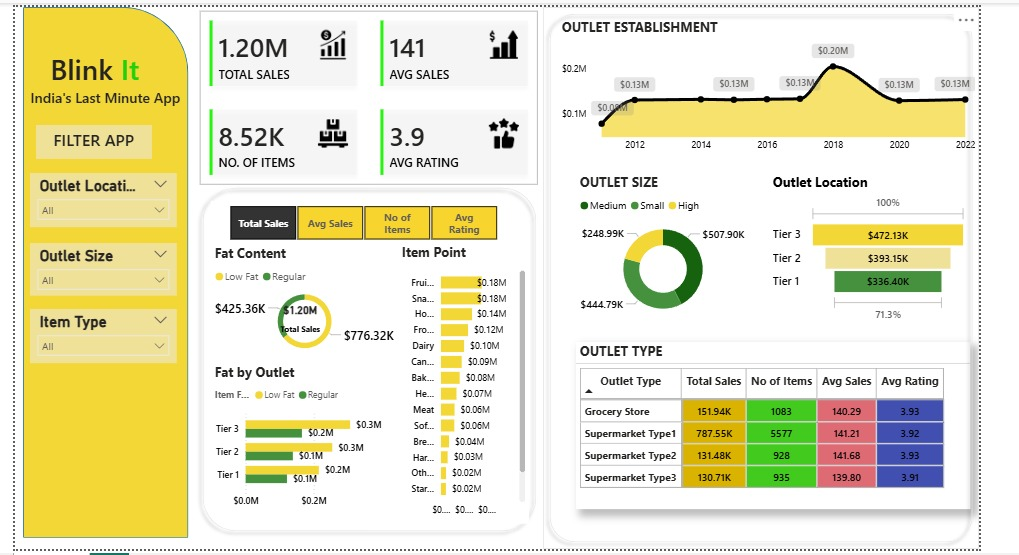

The page's visual inventory and layout, read from the dashboard file:
{"tool":"powerbi","page":{"name":"Page 1","canvas":[1280,720],"ordinal":0},"visuals":[{"type":"shape","box":[10.2,0,219.5,705.4],"z":0},{"type":"cardVisual","fields":{"Data":["BlinkIT Grocery Data.total sales","BlinkIT Grocery Data.avg sales","BlinkIT Grocery Data.no of items","BlinkIT Grocery Data.avg rating"]},"box":[240,0,461,241.5],"z":1000},{"type":"textbox","box":[10.2,51.2,190.2,68.8],"z":2000},{"type":"textbox","box":[0,102.4,240,54.1],"z":3000},{"type":"textbox","box":[27.8,156.6,153.7,45.4],"z":4000},{"type":"slicer","fields":{"Values":["BlinkIT Grocery Data.Outlet Location Type"]},"box":[20.5,221,194.6,71.7],"z":5000},{"type":"slicer","title":"Outlet ","fields":{"Values":["BlinkIT Grocery Data.Outlet Size"]},"box":[20.5,313.2,194.6,70.2],"z":6000},{"type":"slicer","fields":{"Values":["BlinkIT Grocery Data.Item Type"]},"box":[20.5,401,194.6,71.7],"z":7000},{"type":"shape","box":[240,231.2,461,474.1],"z":8000},{"type":"donutChart","title":"Fat Content","fields":{"Category":["BlinkIT Grocery Data.Item Fat Content"],"Y":["Sum(BlinkIT Grocery Data.Sales)"]},"box":[260.5,314.6,248.8,153.7],"z":9000},{"type":"card","fields":{"Values":["Sum(BlinkIT Grocery Data.Sales)"]},"box":[346.8,384.9,64.4,52.7],"z":10000},{"type":"clusteredBarChart","title":"Fat by Outlet","fields":{"Series":["BlinkIT Grocery Data.Item Fat Content"],"Y":["Sum(BlinkIT Grocery Data.Sales)"],"Category":["BlinkIT Grocery Data.Outlet Location Type"]},"box":[260.5,472.7,248.8,202],"z":11000},{"type":"barChart","title":"Item Point","fields":{"Category":["BlinkIT Grocery Data.Item Type"],"Y":["Sum(BlinkIT Grocery Data.Sales)"]},"box":[509.3,313.2,174.1,373.2],"z":12000},{"type":"funnel","title":"Outlet Location","fields":{"Category":["BlinkIT Grocery Data.Outlet Location Type"],"Y":["Sum(BlinkIT Grocery Data.Sales)"]},"box":[1001,221,267.8,203.4],"z":13000},{"type":"shape","box":[36.6,534.1,497.6,14.6],"z":14000},{"type":"donutChart","title":"OUTLET SIZE","fields":{"Category":["BlinkIT Grocery Data.Outlet Size"],"Y":["Sum(BlinkIT Grocery Data.Sales)"]},"box":[744.9,221,231.2,203.4],"z":15000},{"type":"lineChart","title":"OUTLET ESTABLISHMENT","fields":{"Category":["BlinkIT Grocery Data.Outlet Establishment Year"],"Y":["Sum(BlinkIT Grocery Data.Sales)"]},"box":[721.5,14.6,559,187.3],"z":16000},{"type":"pivotTable","title":"OUTLET TYPE","fields":{"Rows":["BlinkIT Grocery Data.Outlet Type"],"Values":["BlinkIT Grocery Data.total sales","BlinkIT Grocery Data.no of items","BlinkIT Grocery Data.avg sales","BlinkIT Grocery Data.avg rating"]},"box":[744.9,444.9,523.9,222.4],"z":17000},{"type":"shape","box":[701,0,579.5,720],"z":18000},{"type":"slicer","fields":{"Values":["Parameter.Parameter"]},"box":[260.5,257.6,403.9,57.1],"z":18001}]}

Visuals, with their boxes on the page's 1280x720 design canvas (x1, y1, x2, y2). These are canvas units, not pixel positions in the 1019x555 screenshot, which may show the page scaled, cropped or inside an application window:
shape: [left=10, top=0, right=230, bottom=705]
cardVisual - BlinkIT Grocery Data.total sales x BlinkIT Grocery Data.avg sales: [left=240, top=0, right=701, bottom=242]
textbox: [left=10, top=51, right=200, bottom=120]
textbox: [left=0, top=102, right=240, bottom=156]
textbox: [left=28, top=157, right=182, bottom=202]
slicer - BlinkIT Grocery Data.Outlet Location Type: [left=20, top=221, right=215, bottom=293]
"Outlet " slicer: [left=20, top=313, right=215, bottom=383]
slicer - BlinkIT Grocery Data.Item Type: [left=20, top=401, right=215, bottom=473]
shape: [left=240, top=231, right=701, bottom=705]
"Fat Content" donutChart: [left=260, top=315, right=509, bottom=468]
card - Sum(BlinkIT Grocery Data.Sales): [left=347, top=385, right=411, bottom=438]
"Fat by Outlet" clusteredBarChart: [left=260, top=473, right=509, bottom=675]
"Item Point" barChart: [left=509, top=313, right=683, bottom=686]
"Outlet Location" funnel: [left=1001, top=221, right=1269, bottom=424]
shape: [left=37, top=534, right=534, bottom=549]
"OUTLET SIZE" donutChart: [left=745, top=221, right=976, bottom=424]
"OUTLET ESTABLISHMENT" lineChart: [left=722, top=15, right=1280, bottom=202]
"OUTLET TYPE" pivotTable: [left=745, top=445, right=1269, bottom=667]
shape: [left=701, top=0, right=1280, bottom=720]
slicer - Parameter.Parameter: [left=260, top=258, right=664, bottom=315]
